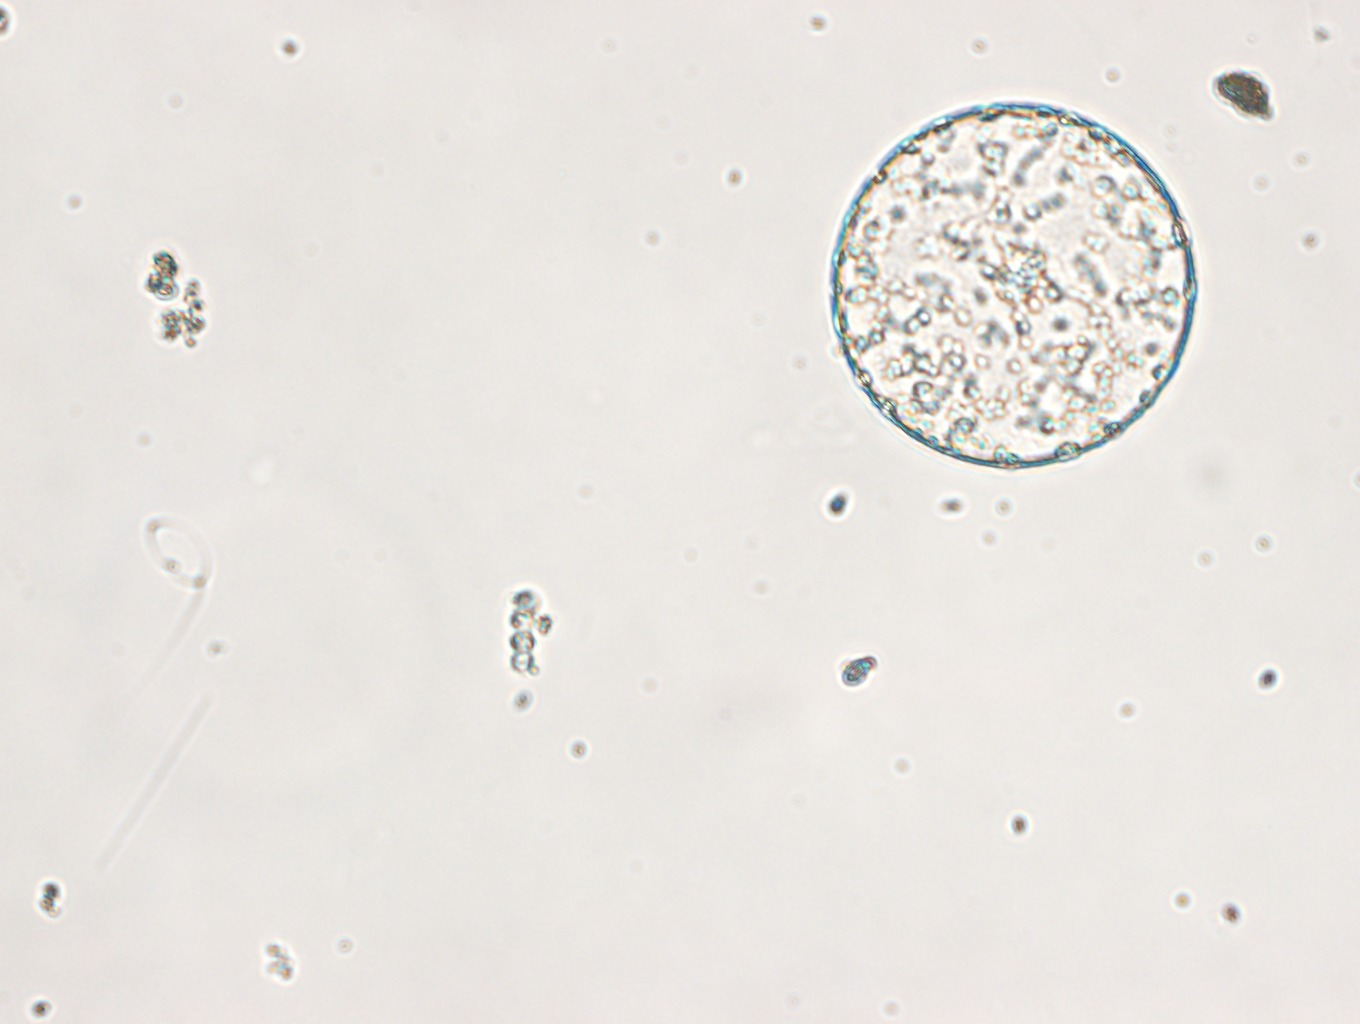coscinodiscus: (829, 99, 1199, 468)
